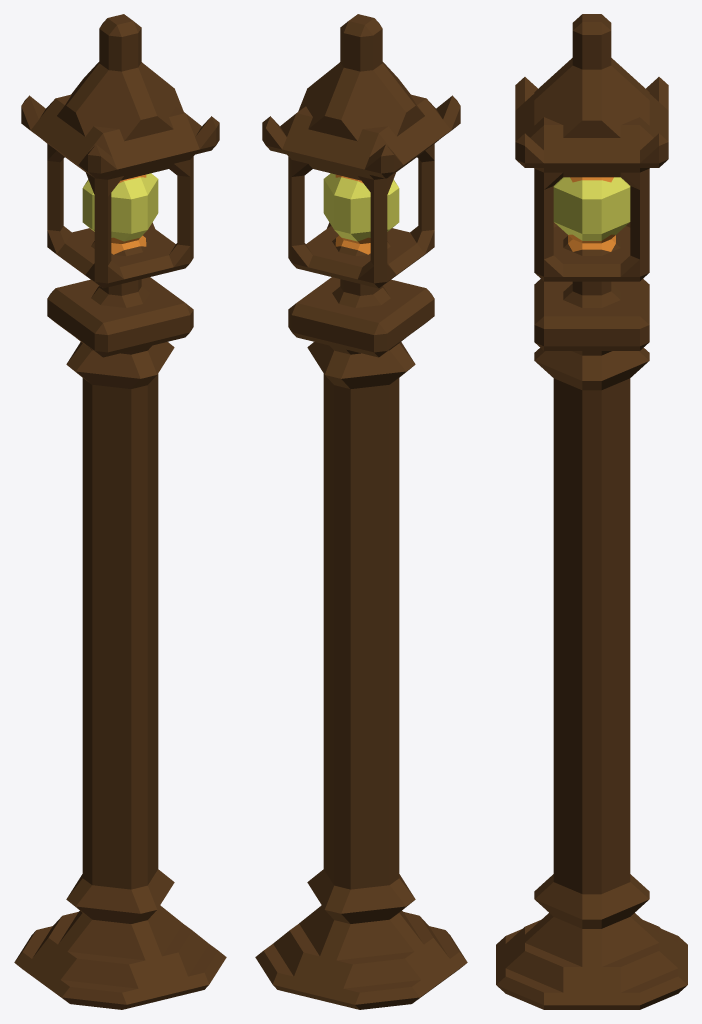
The model's file is Game_streetLamp.fbx.
3 views of the same model, side by side, from view 1: azimuth 30°, elevation 25°; view 2: azimuth 150°, elevation 25°; view 3: azimuth 270°, elevation 25° (orthographic).
Parts seen in each view (by area): view 1: streetlamp_mc; view 2: streetlamp_mc; view 3: streetlamp_mc.
Boxes of the visible parts, x1,y1,x2,y2 form: streetlamp_mc: [14, 14, 226, 1009]; streetlamp_mc: [255, 14, 467, 1009]; streetlamp_mc: [496, 14, 687, 1009].
Size of the model in its own units: 1 by 5.5 by 1.
